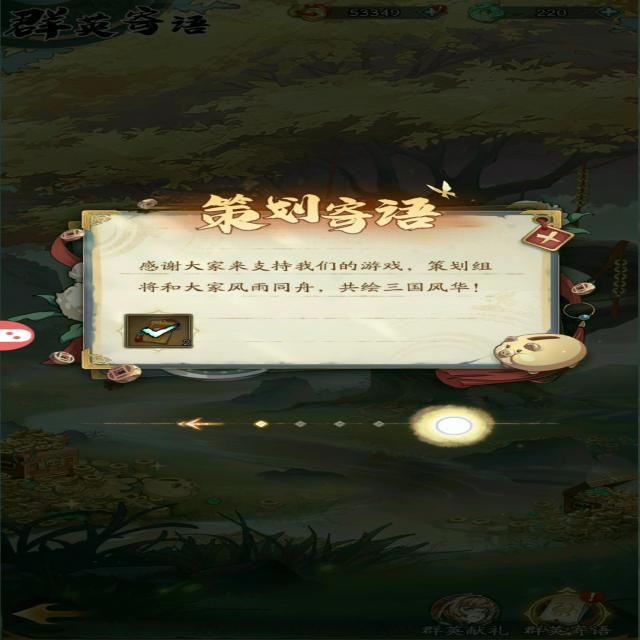operation-close: (490, 221, 583, 262)
operation-confirm-off: (93, 302, 205, 359)
operation-enter: (174, 408, 223, 441), (415, 408, 458, 437)
